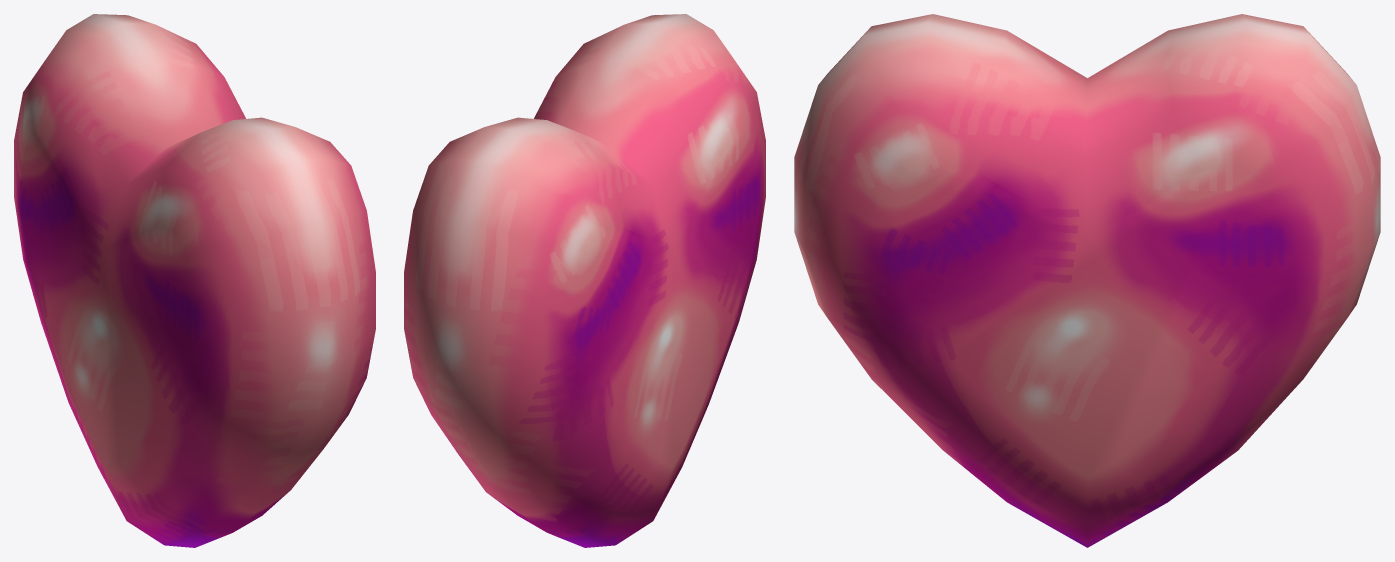
File: Heart.fbx
The picture shows the model from 3 angles, left to right: view 1: azimuth 30°, elevation 25°; view 2: azimuth 150°, elevation 25°; view 3: azimuth 270°, elevation 25°; orthographic projection. The views are drawn at different scales.
Visible parts, largest first — view 1: Cylinder; view 2: Cylinder; view 3: Cylinder.
Part boxes in pixels (x1,y1,x2,y2): Cylinder: [14, 14, 375, 547]; Cylinder: [404, 14, 765, 547]; Cylinder: [794, 14, 1380, 547].
Size of the model in its own units: 159 by 407 by 416.
Materials: 1 (1 with a texture image).
